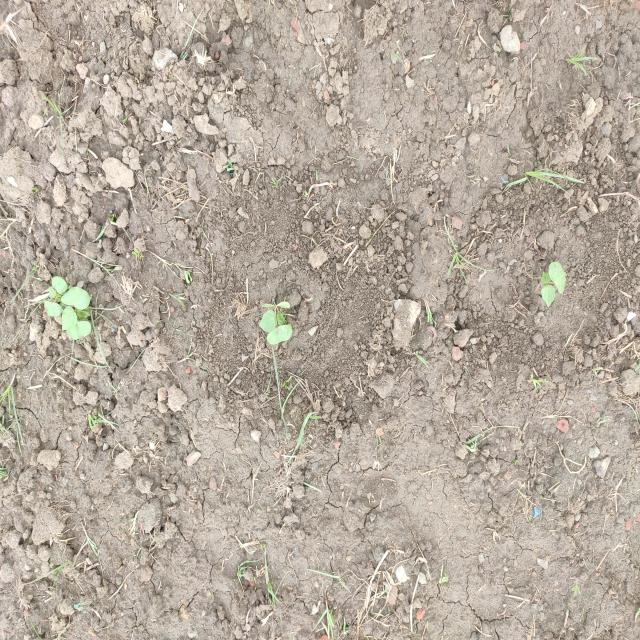seedling_s4: (61, 287, 90, 309), (266, 324, 292, 345), (549, 262, 566, 294), (66, 322, 92, 339), (62, 306, 77, 331), (259, 310, 276, 332), (541, 285, 556, 307), (52, 276, 68, 295), (44, 301, 62, 317), (263, 301, 290, 309), (77, 309, 90, 319), (541, 271, 550, 284), (277, 311, 285, 325)
